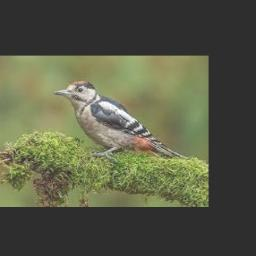Woodpecker: (54, 80, 187, 160)
